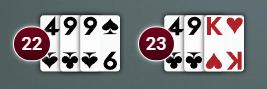4: (162, 13, 186, 39), (38, 13, 62, 38)
9: (58, 14, 80, 40), (79, 13, 100, 38), (184, 14, 204, 39)
k: (203, 14, 225, 40)
